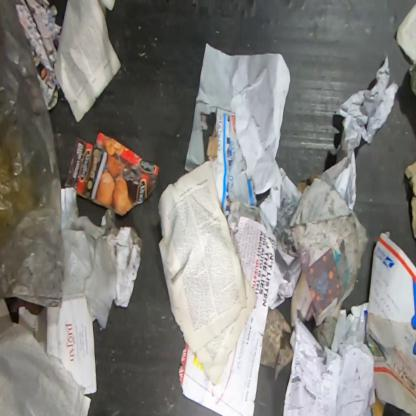cardboard: (365, 230, 415, 415), (63, 130, 160, 217), (200, 107, 258, 224), (408, 61, 415, 98)
soft_plastic: (0, 0, 66, 309)
